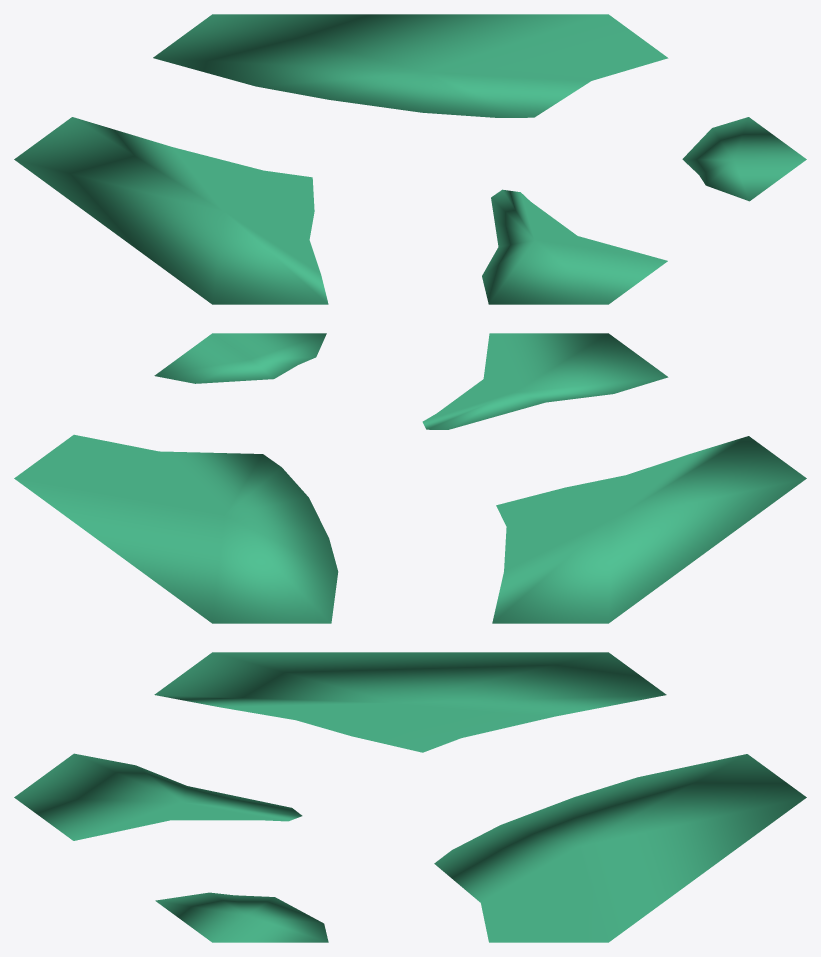
Rendered from riverI_flat.fbx.
3 views of the same model, one above another, from view 1: azimuth 30°, elevation 25°; view 2: azimuth 150°, elevation 25°; view 3: azimuth 270°, elevation 25° (orthographic).
Visible parts, largest first — view 1: hex_forest_roadI_Cylinder.495; view 2: hex_forest_roadI_Cylinder.495; view 3: hex_forest_roadI_Cylinder.495.
Boxes of the visible parts, bbox=[...] form: hex_forest_roadI_Cylinder.495: bbox=[14, 14, 806, 304]; hex_forest_roadI_Cylinder.495: bbox=[14, 333, 806, 623]; hex_forest_roadI_Cylinder.495: bbox=[14, 652, 806, 942].
Size of the model in its own units: 190 by 1.66e-05 by 220.
